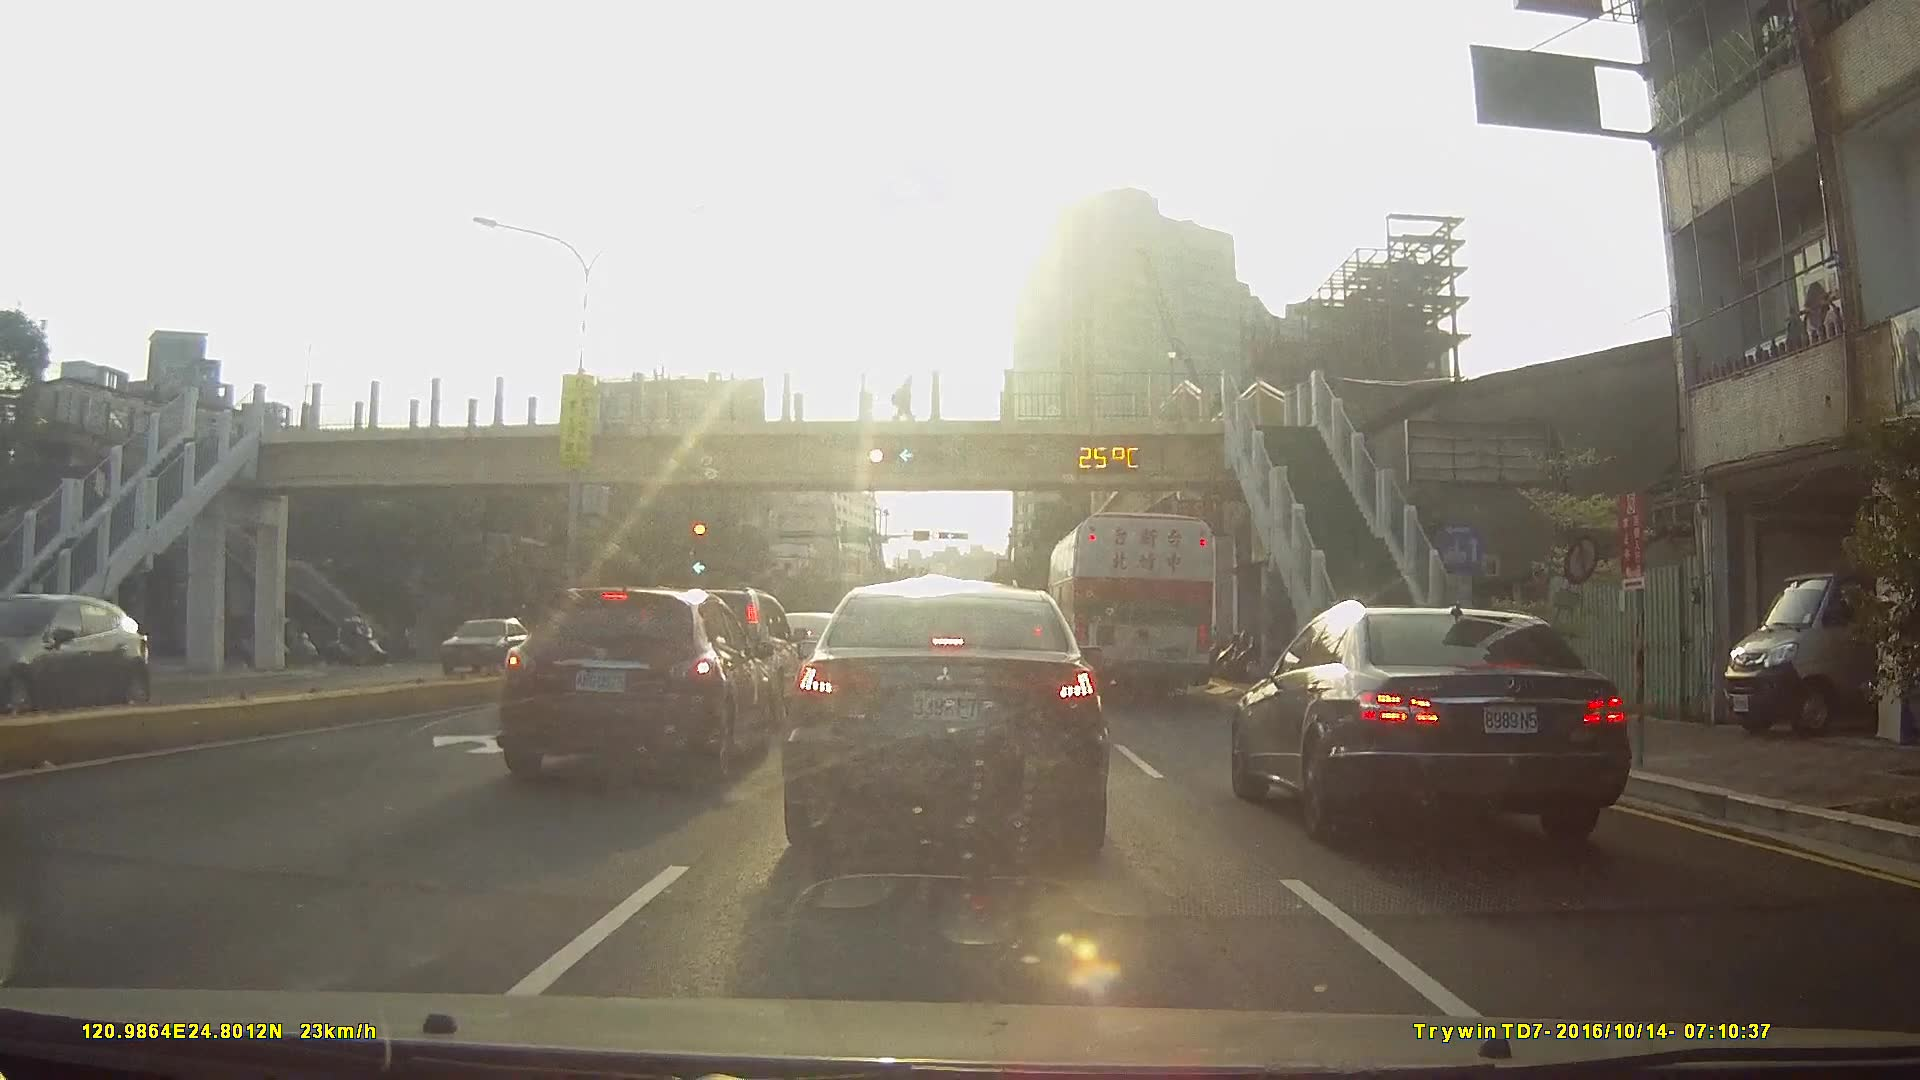pedestrian: (895, 373, 917, 421)
rider: (326, 615, 394, 671)
vehicle: (1225, 597, 1624, 845), (776, 578, 1114, 856), (490, 581, 777, 788), (1046, 511, 1215, 700), (0, 593, 126, 723), (1, 607, 133, 693), (429, 615, 529, 674)
